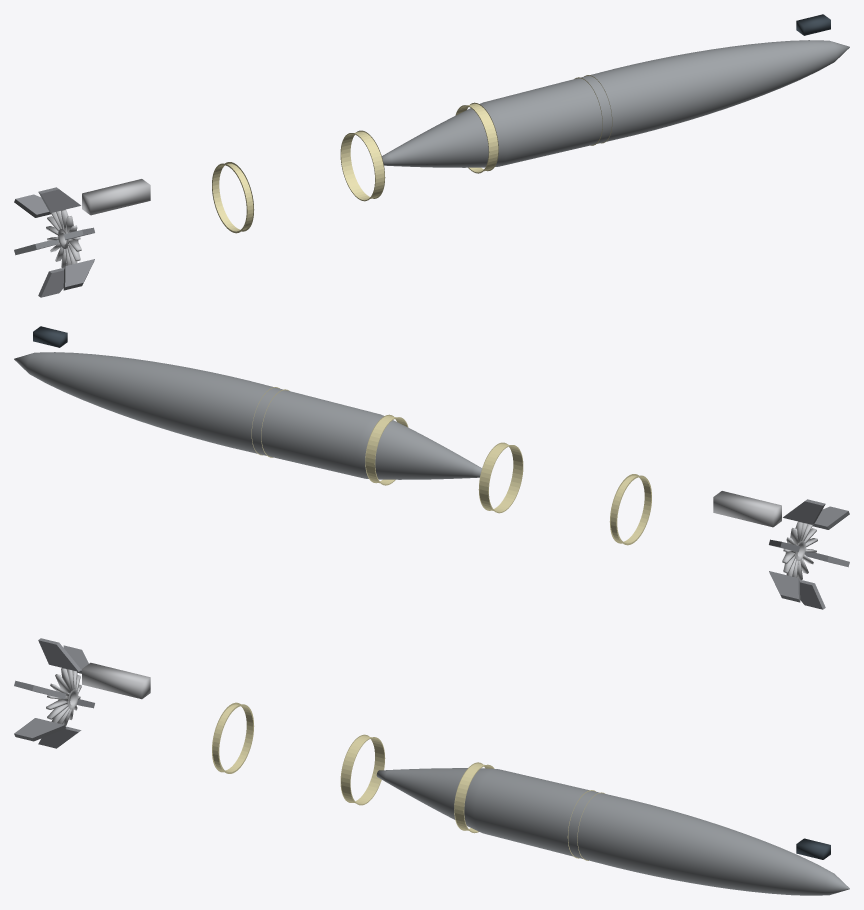
The model's file is RU_TORP_USET80K_LOD0.fbx.
3 renders of one model, top to bottom at view 1: azimuth 30°, elevation 25°; view 2: azimuth 150°, elevation 25°; view 3: azimuth 330°, elevation 25°, orthographic.
Visible parts, largest first — view 1: WPN_RU_TORP_USET80K_LOD0_Body, WPN_RU_TORP_USET80K_LOD0_Marking, WPN_RU_TORP_USET80K_LOD0_Fins, WPN_RU_TORP_USET80K_LOD0_Detail, WPN_RU_TORP_USET80K_LOD0_Propulsor, WPN_RU_TORP_USET80K_LOD0_Seeker; view 2: WPN_RU_TORP_USET80K_LOD0_Body, WPN_RU_TORP_USET80K_LOD0_Marking, WPN_RU_TORP_USET80K_LOD0_Fins, WPN_RU_TORP_USET80K_LOD0_Detail, WPN_RU_TORP_USET80K_LOD0_Propulsor, WPN_RU_TORP_USET80K_LOD0_Seeker; view 3: WPN_RU_TORP_USET80K_LOD0_Body, WPN_RU_TORP_USET80K_LOD0_Marking, WPN_RU_TORP_USET80K_LOD0_Fins, WPN_RU_TORP_USET80K_LOD0_Detail, WPN_RU_TORP_USET80K_LOD0_Propulsor, WPN_RU_TORP_USET80K_LOD0_Seeker.
Boxes of the visible parts, left/top/right/bottom form: WPN_RU_TORP_USET80K_LOD0_Body: left=382, top=40, right=849, bottom=167; WPN_RU_TORP_USET80K_LOD0_Marking: left=212, top=75, right=612, bottom=233; WPN_RU_TORP_USET80K_LOD0_Fins: left=14, top=187, right=94, bottom=297; WPN_RU_TORP_USET80K_LOD0_Detail: left=82, top=179, right=150, bottom=215; WPN_RU_TORP_USET80K_LOD0_Propulsor: left=46, top=209, right=81, bottom=267; WPN_RU_TORP_USET80K_LOD0_Seeker: left=796, top=14, right=830, bottom=35; WPN_RU_TORP_USET80K_LOD0_Body: left=14, top=352, right=481, bottom=479; WPN_RU_TORP_USET80K_LOD0_Marking: left=251, top=387, right=651, bottom=545; WPN_RU_TORP_USET80K_LOD0_Fins: left=769, top=499, right=849, bottom=609; WPN_RU_TORP_USET80K_LOD0_Detail: left=713, top=491, right=781, bottom=527; WPN_RU_TORP_USET80K_LOD0_Propulsor: left=782, top=521, right=817, bottom=579; WPN_RU_TORP_USET80K_LOD0_Seeker: left=33, top=326, right=67, bottom=347; WPN_RU_TORP_USET80K_LOD0_Body: left=376, top=768, right=849, bottom=895; WPN_RU_TORP_USET80K_LOD0_Marking: left=212, top=702, right=605, bottom=860; WPN_RU_TORP_USET80K_LOD0_Fins: left=14, top=638, right=94, bottom=748; WPN_RU_TORP_USET80K_LOD0_Detail: left=82, top=662, right=150, bottom=699; WPN_RU_TORP_USET80K_LOD0_Propulsor: left=46, top=668, right=81, bottom=725; WPN_RU_TORP_USET80K_LOD0_Seeker: left=796, top=838, right=830, bottom=859.
Size of the model in its own units: 7.19 by 0.7848 by 0.8816.
